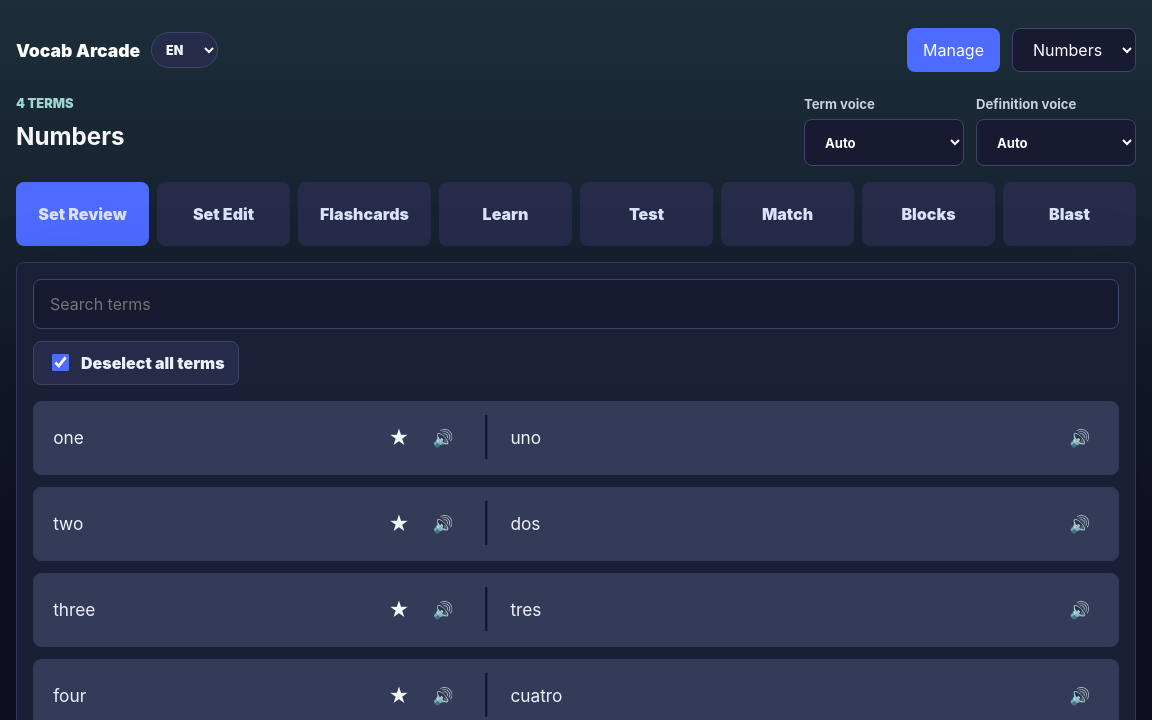
Test case: App › localizes workspace controls and accessible labels
Select "UK" in the dropdown named "Interface language": (184, 50) 151,32 -> 218,68
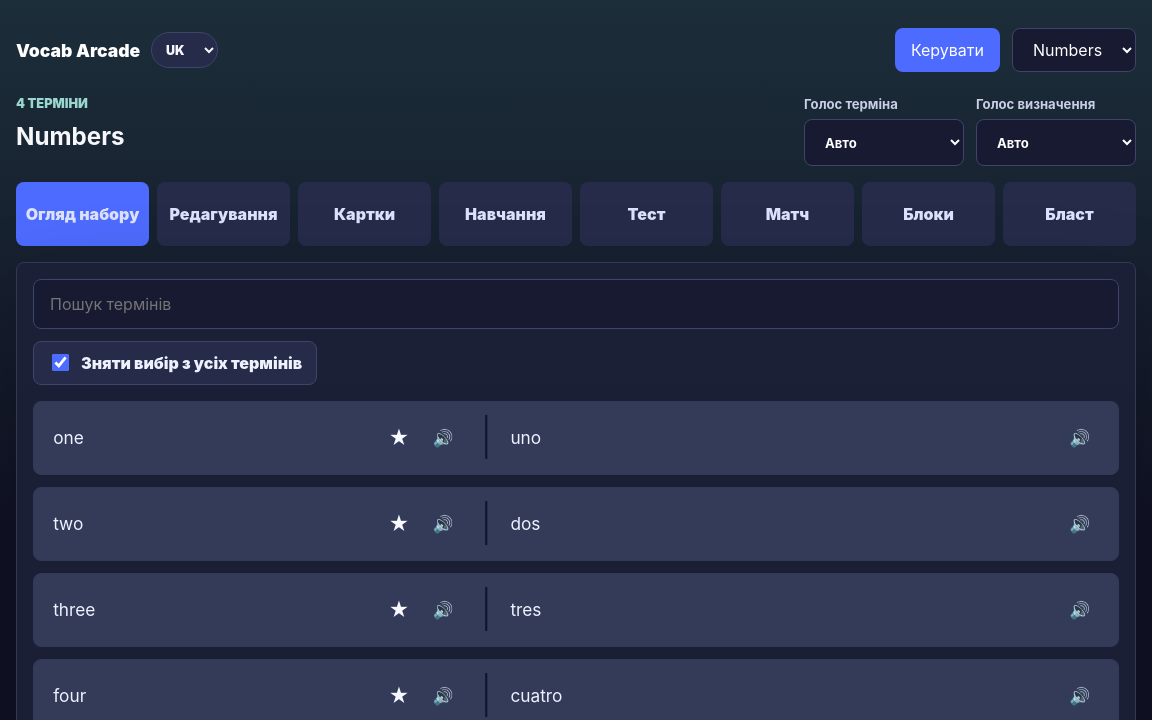
Result: the tab "Огляд набору" is shown at 16,182 -> 149,246
Result: the tab "Навчання" is shown at 439,182 -> 572,246
Result: the element named "Налаштування озвучення" is shown at 804,96 -> 1136,166
